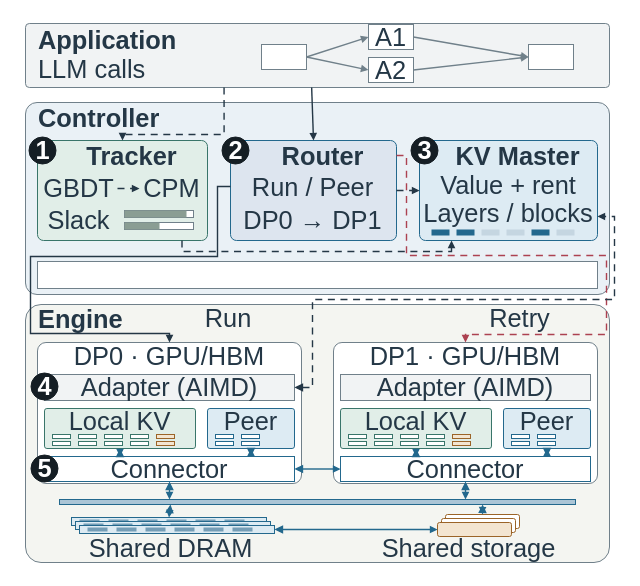
This 640x586 diagram has some shape labels left out. The centre of each missing label's shape, as x and y in pixels:
A0: (x=283, y=57)
A3: (x=551, y=57)
Manifests · logs · leases: (x=317, y=274)
